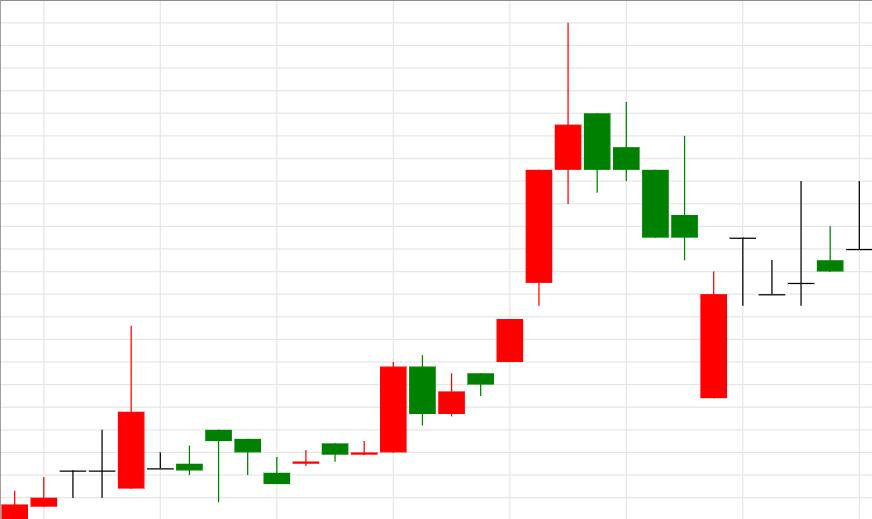shooting_star_fall: (381, 24, 582, 453)
